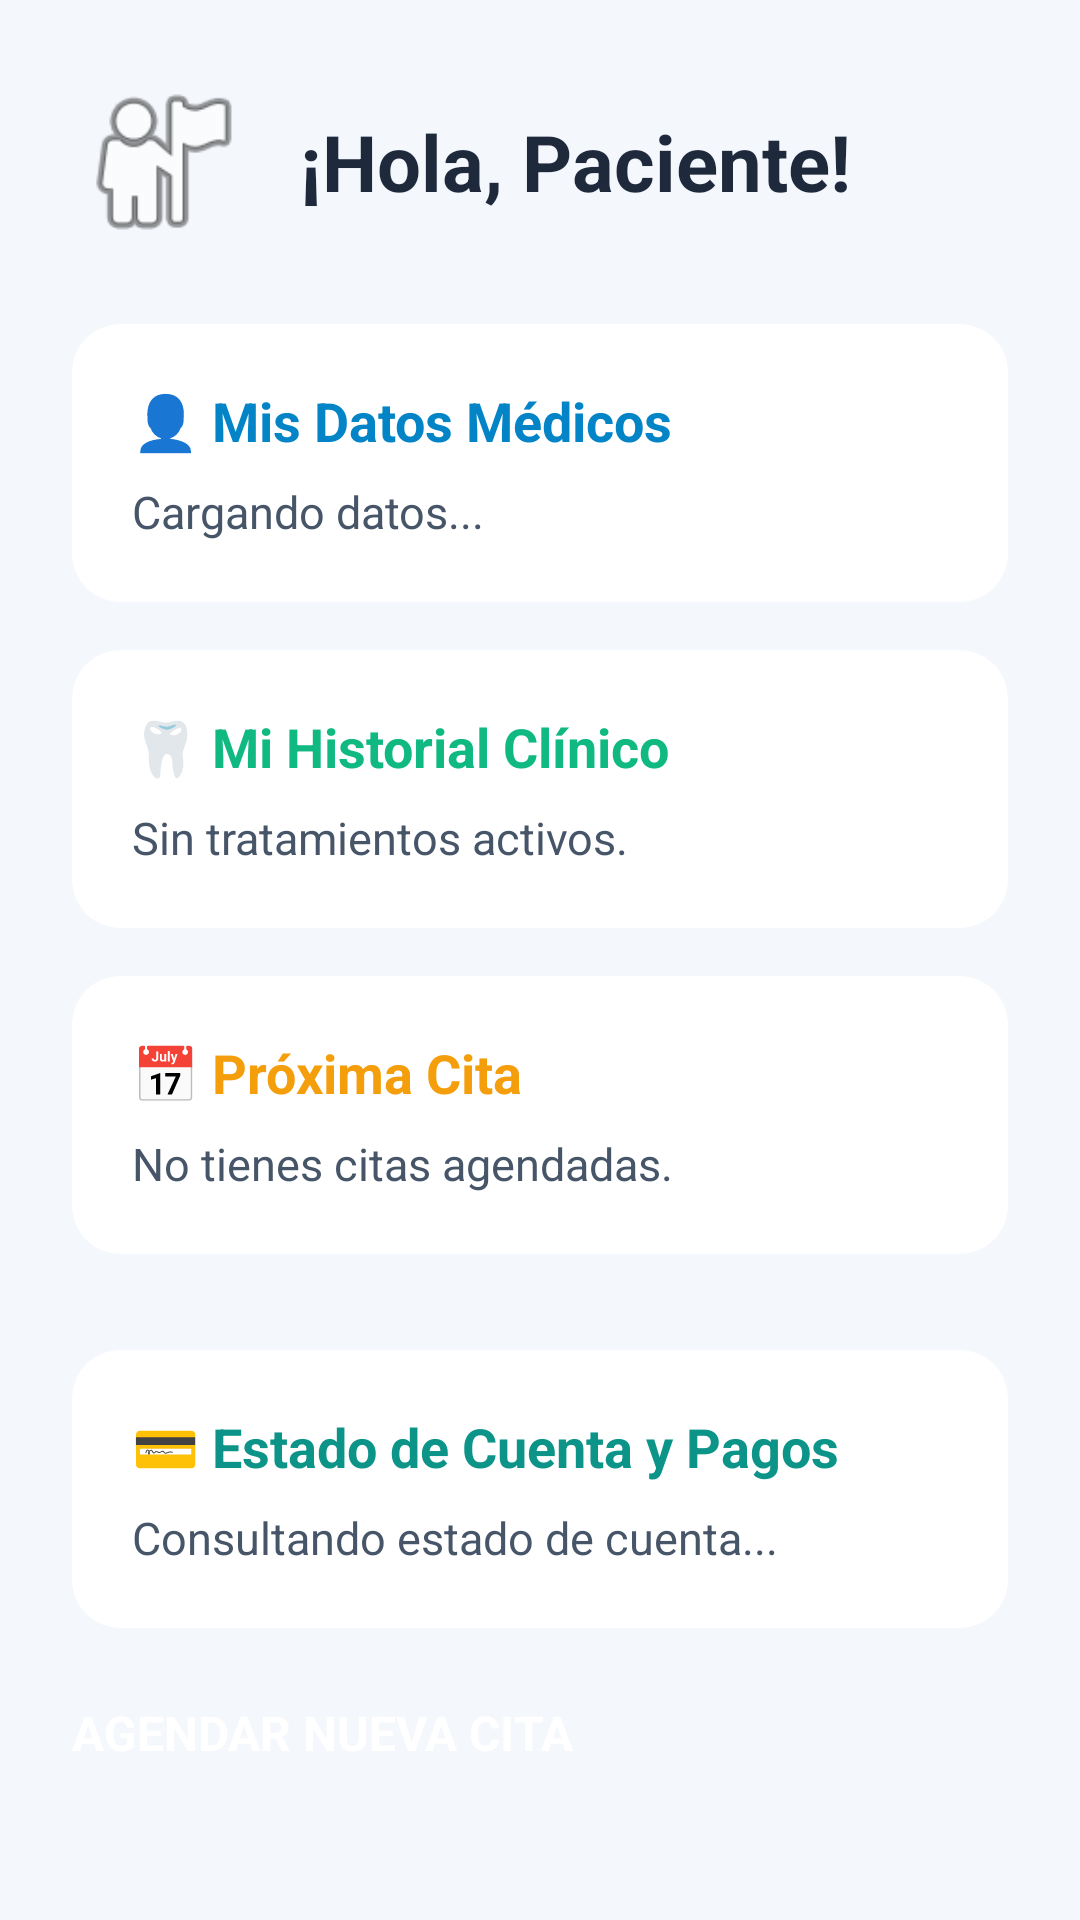

Icon bounding boxes for this 1080 × 1920 phone screenshot, format (x1, y1, x2, y2):
myplaces: (96, 95, 232, 229)
